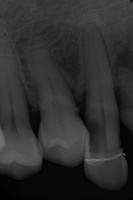Furcation Involvement: (114, 46, 133, 70)
